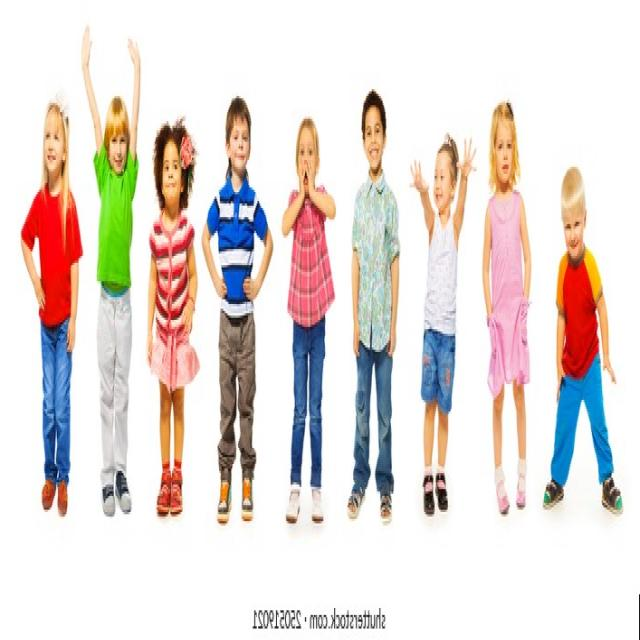child: (75, 14, 153, 523), (12, 85, 88, 532), (199, 85, 274, 532), (402, 121, 480, 537), (538, 169, 623, 519), (276, 105, 338, 553), (342, 85, 404, 532), (143, 105, 202, 549), (481, 94, 536, 537)
